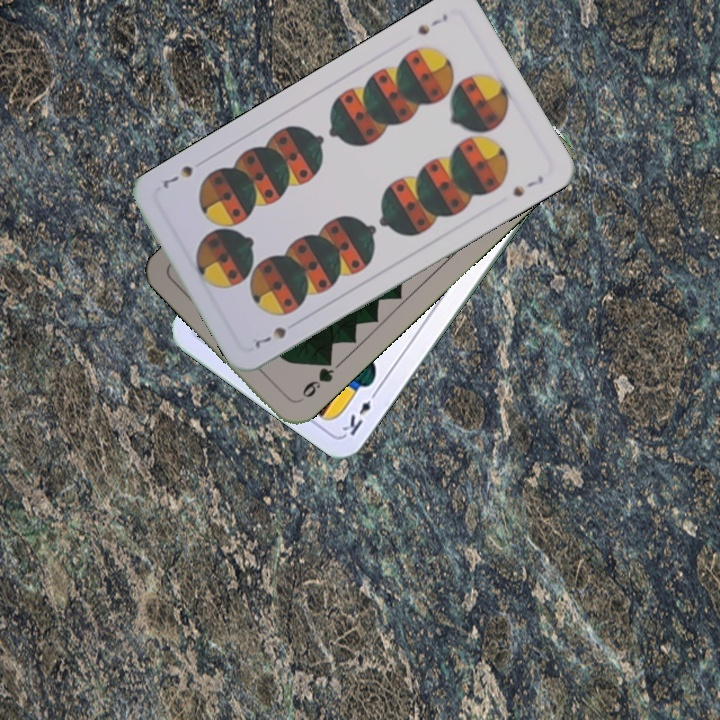EK: (338, 385, 381, 439)
G9: (297, 353, 337, 400)
S7: (413, 9, 451, 38), (250, 322, 289, 350)
